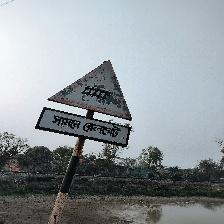Rail-crossing: (37, 60, 133, 148)
